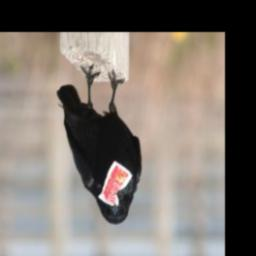Crow: (56, 63, 144, 226)
